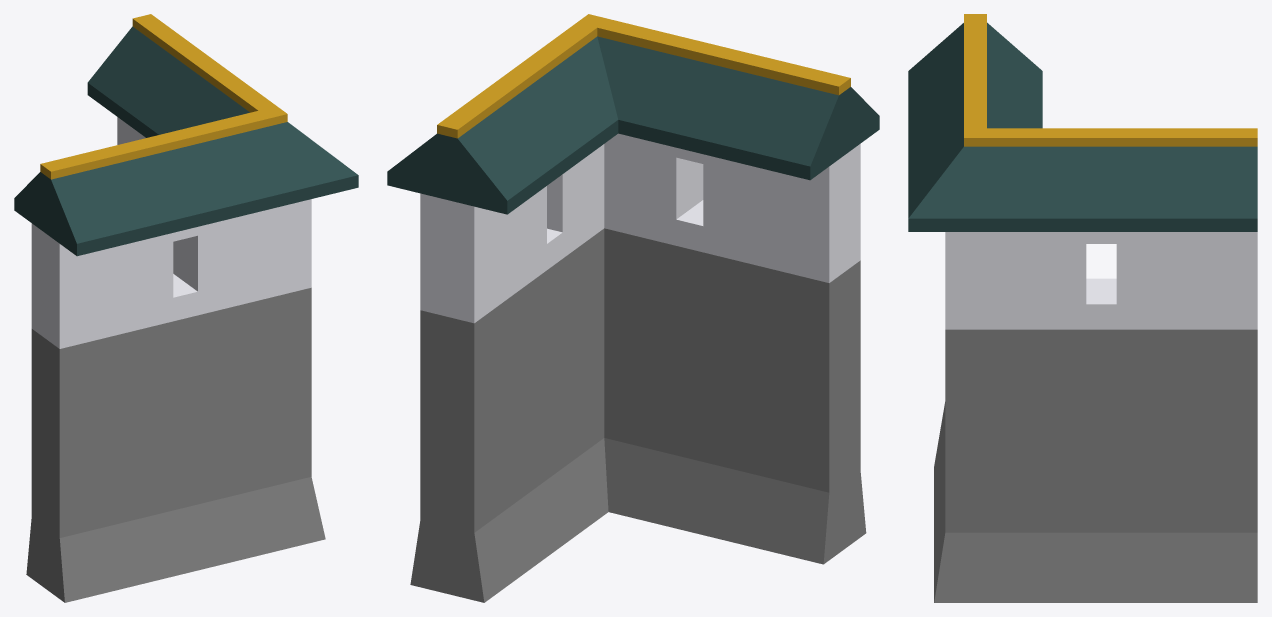
Rendered from Asian_Prop_Building_Fence_Wall_High_Small_Corner_Embrasure_03.FBX.
3 renders of one model, left to right at view 1: azimuth 30°, elevation 25°; view 2: azimuth 150°, elevation 25°; view 3: azimuth 270°, elevation 25°, orthographic. The views are drawn at different scales.
Visible parts, largest first — view 1: Asian_Prop_Building_Fence_Wall_High_Small_Corner_Embrasure_0; view 2: Asian_Prop_Building_Fence_Wall_High_Small_Corner_Embrasure_0; view 3: Asian_Prop_Building_Fence_Wall_High_Small_Corner_Embrasure_0.
Boxes of the visible parts, x1,y1,x2,y2 form: Asian_Prop_Building_Fence_Wall_High_Small_Corner_Embrasure_0: [14, 14, 358, 602]; Asian_Prop_Building_Fence_Wall_High_Small_Corner_Embrasure_0: [387, 14, 879, 602]; Asian_Prop_Building_Fence_Wall_High_Small_Corner_Embrasure_0: [908, 14, 1257, 602].
Size of the model in its own units: 2890 by 4128 by 2890.
